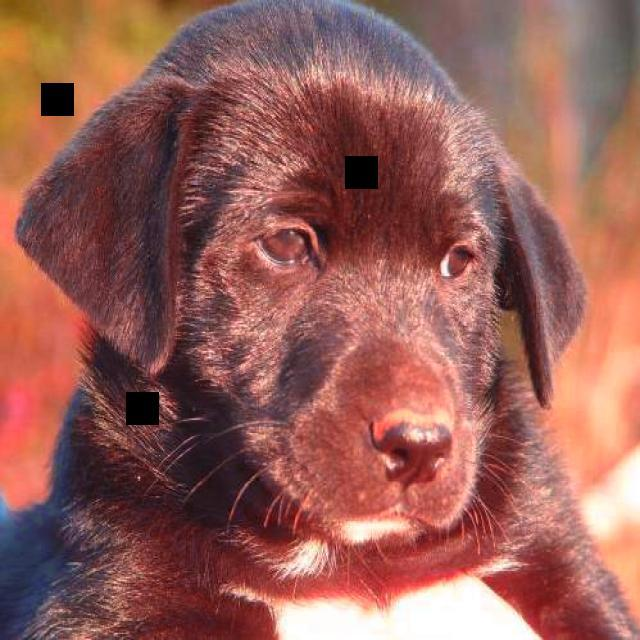puppy-dog: (11, 2, 640, 640)
